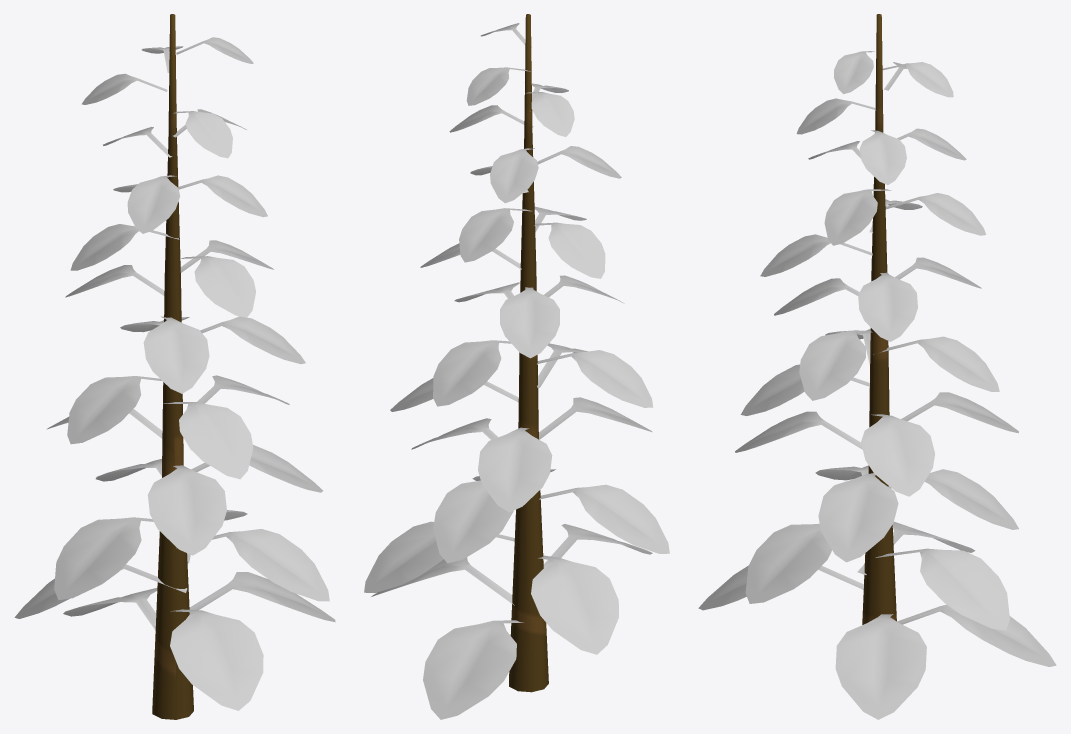
The model's file is TallPlant 2.fbx.
3 views of the same model, side by side, from view 1: azimuth 30°, elevation 25°; view 2: azimuth 150°, elevation 25°; view 3: azimuth 270°, elevation 25° (orthographic). The views are drawn at different scales.
Parts seen in each view (by area): view 1: Plane; view 2: Plane; view 3: Plane.
Boxes of the visible parts, x1=… form: Plane: x1=14, y1=14, x2=335, y2=719; Plane: x1=364, y1=14, x2=669, y2=719; Plane: x1=698, y1=14, x2=1056, y2=719.
Bounding box in the file's own units: 91.63 × 208 × 99.58.
